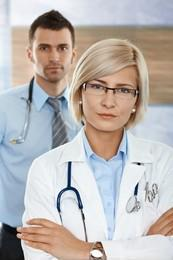face: (80, 68, 137, 133), (34, 34, 71, 83)
